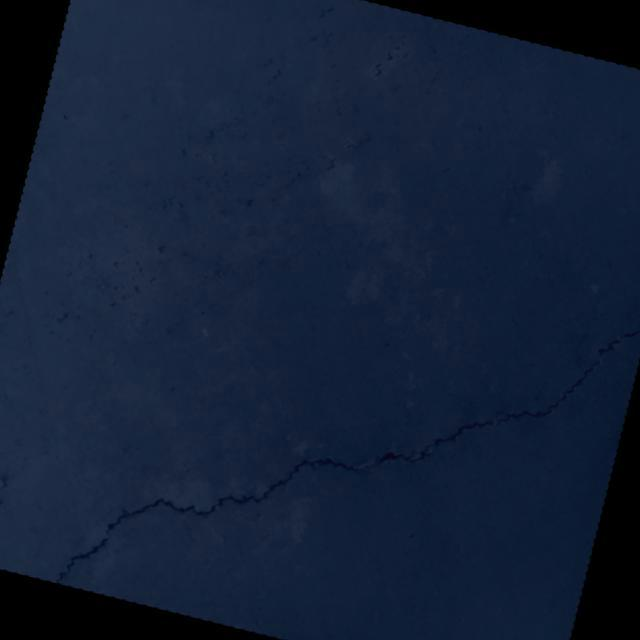crack: (55, 203, 640, 640)
